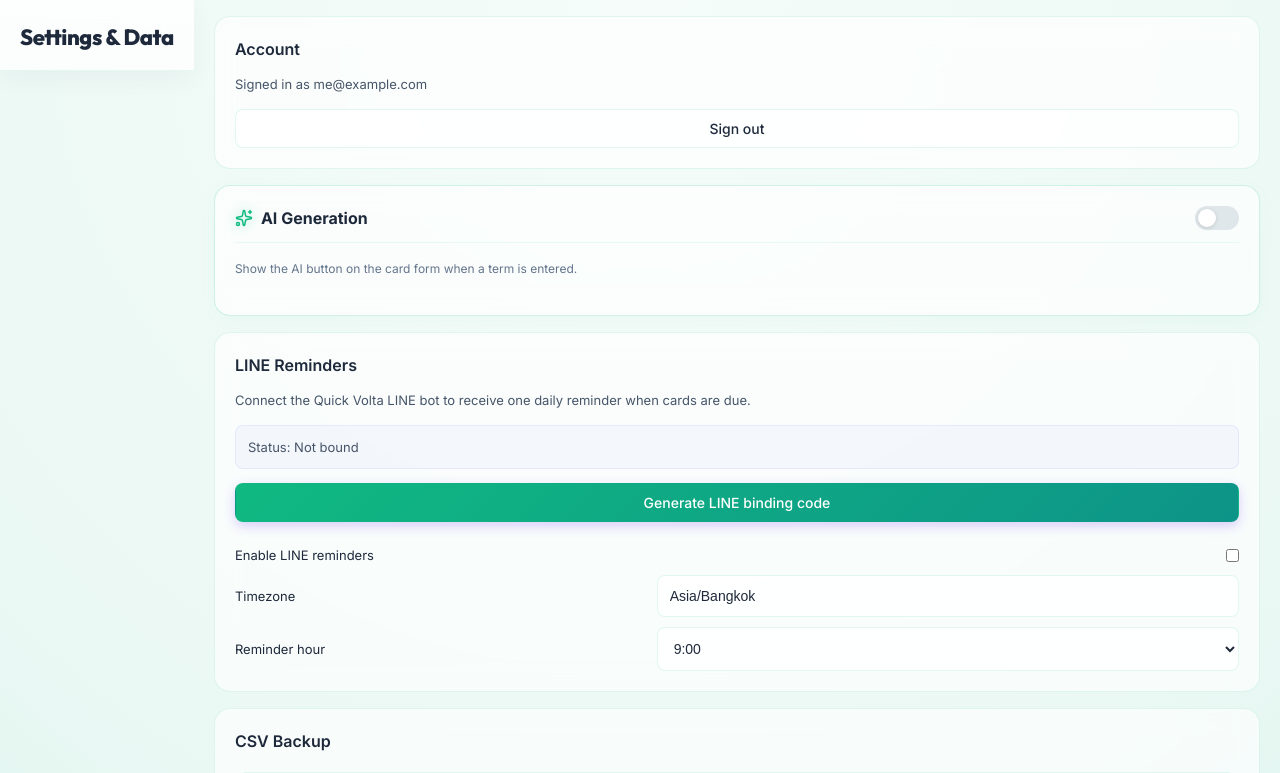
Test case: LINE reminder Settings UI › shows unbound LINE status and generates a binding code
Expected: the heading "LINE Reminders" is shown, [235, 355, 357, 375]
Click the button "Generate LINE binding code".
click(737, 502)  # box [235, 483, 1239, 522]
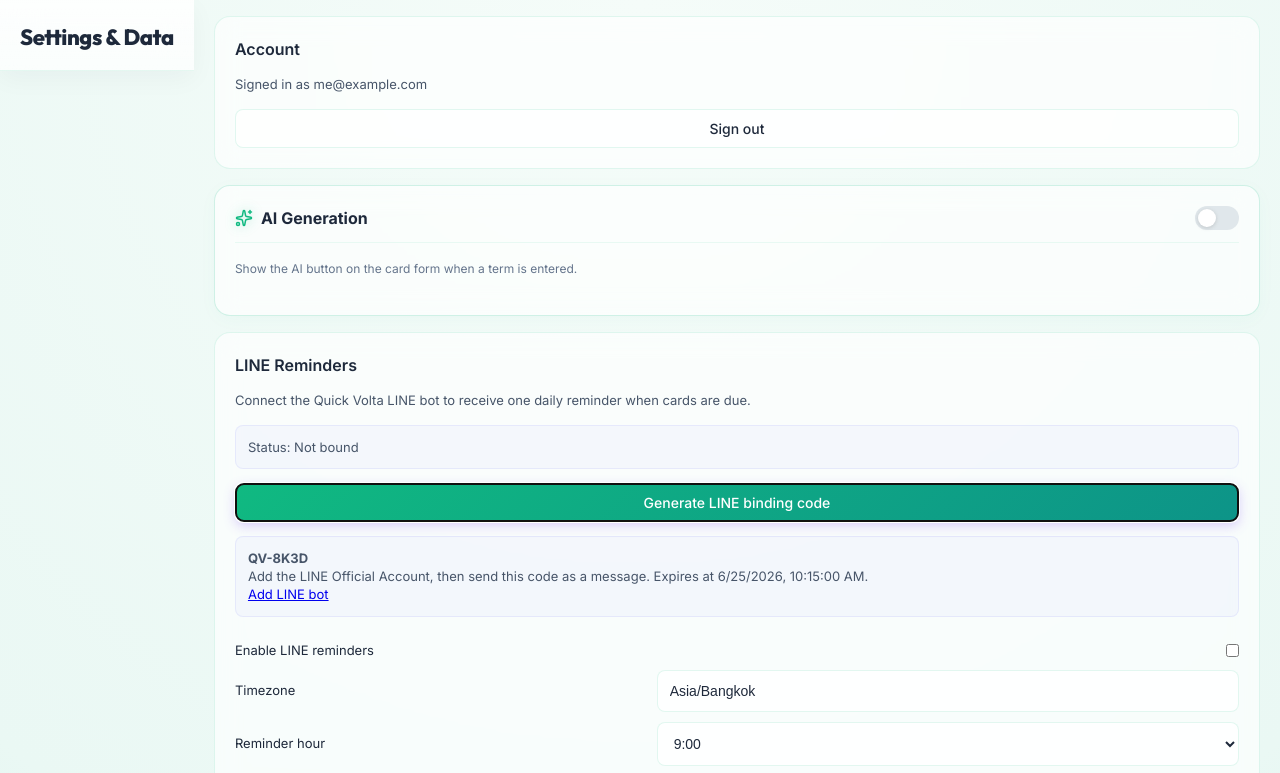
Expected: the text "QV-8K3D" is shown, [248, 550, 308, 566]
